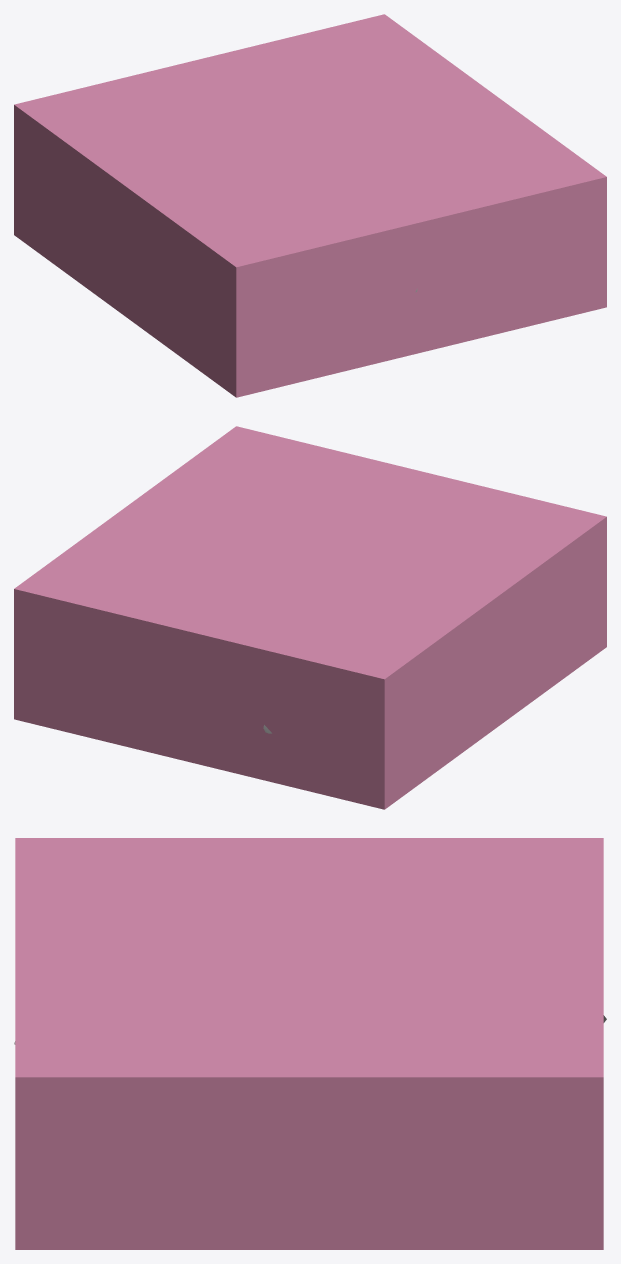
The model's file is rock_01_a_large_c.dae.
3 views of the same model, one above another, from view 1: azimuth 30°, elevation 25°; view 2: azimuth 150°, elevation 25°; view 3: azimuth 270°, elevation 25° (orthographic). The views are drawn at different scales.
Visible parts, largest first — view 1: Untitled; view 2: Untitled; view 3: Untitled.
Boxes of the visible parts, x1,y1,x2,y2 form: Untitled: [14, 14, 606, 397]; Untitled: [14, 426, 606, 809]; Untitled: [15, 838, 603, 1249].
Bounding box in the file's own units: 1.57 × 1.64 × 0.5399.
